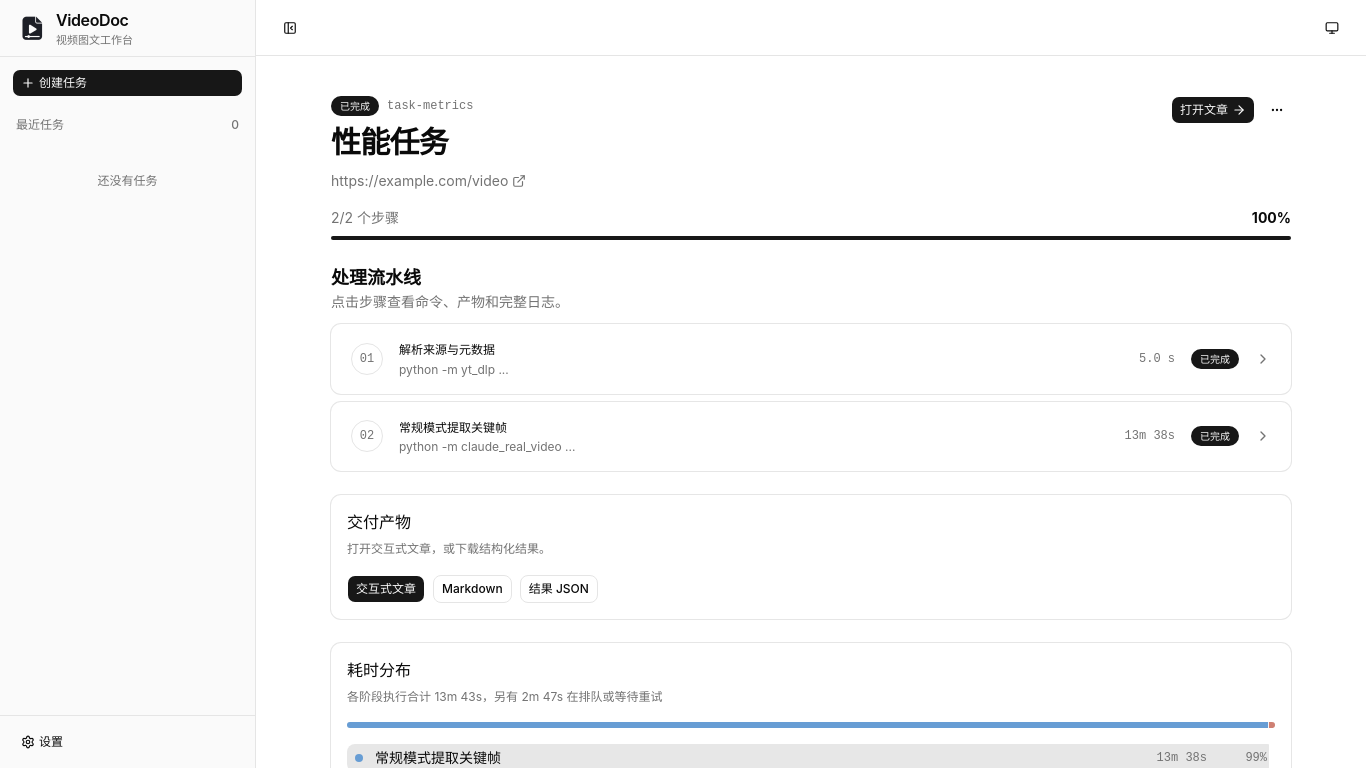
Test case: VideoDoc app › shows per-step duration and the breakdown of the slowest stage
The image size is (1366, 768).
Check: the 1st text "13m 38s" is shown, box [1125,428,1175,444]
Check: the text "耗时分布" is shown, box [347,662,411,678]
Click the button "02 常规模式提取关键帧 python -m claude_real_video ... 13m 38s 已完成".
click(811, 436)  # box [331,402,1291,471]
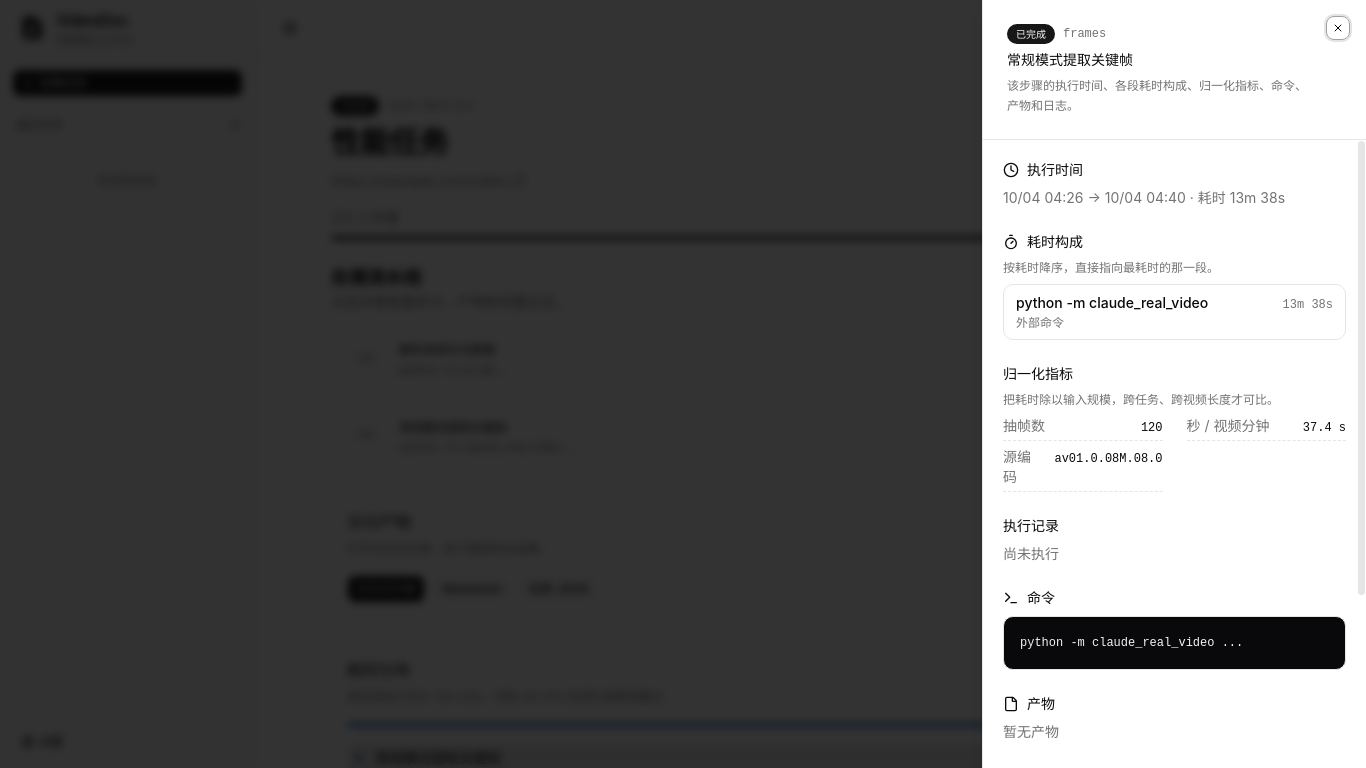
Check: the heading "耗时构成" is shown, box [1003,233,1083,250]
Check: the heading "归一化指标" is shown, box [1003,365,1073,382]
Check: the text "秒 / 视频分钟" is shown, box [1186,416,1269,436]
